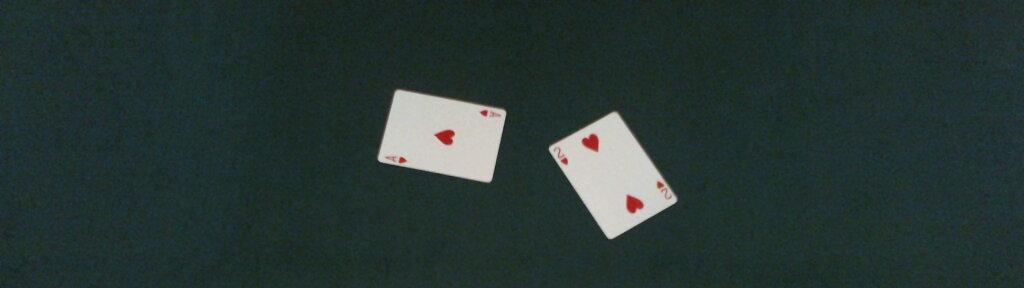ace: (377, 88, 506, 184)
two: (547, 109, 677, 239)
